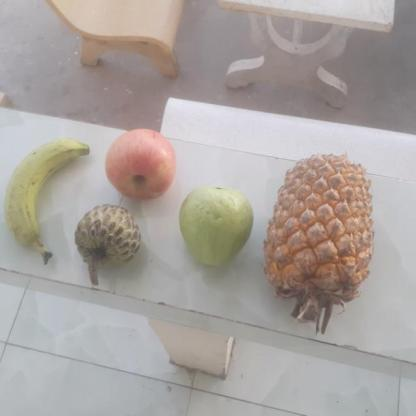annona: (74, 204, 144, 285)
apple: (102, 128, 178, 202)
banana: (6, 139, 92, 252)
guava: (177, 186, 253, 266)
pineapple: (268, 151, 378, 301)
